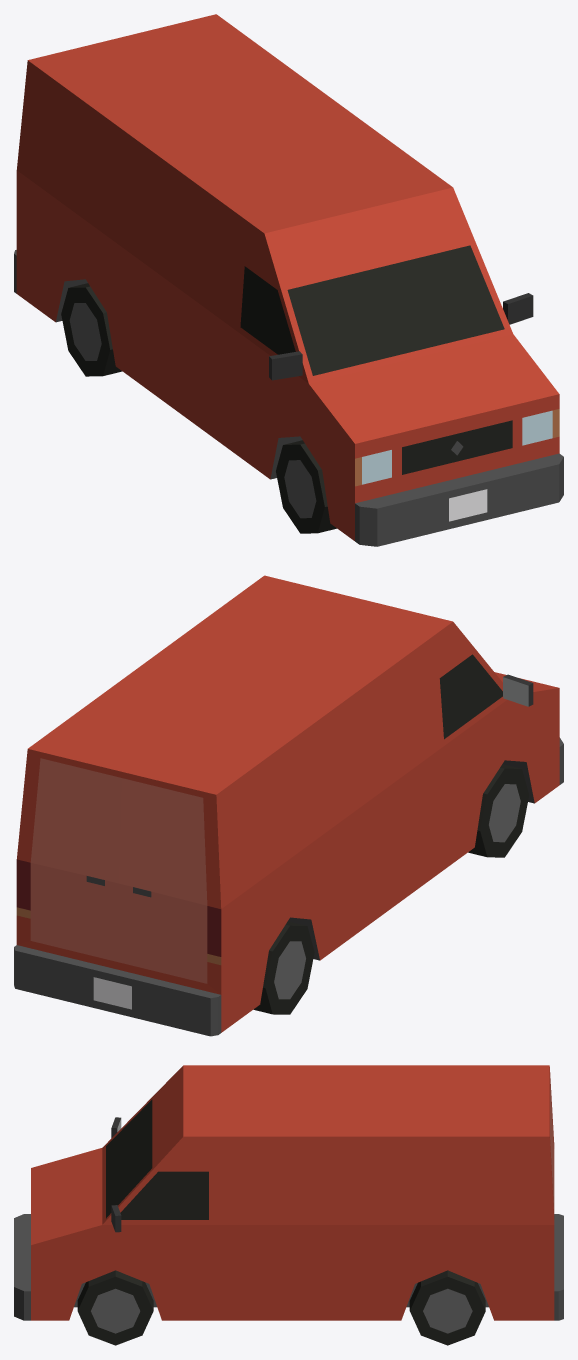
Rendered from Veh_Van_03_Red.obj.
3 views of the same model, one above another, from view 1: azimuth 30°, elevation 25°; view 2: azimuth 150°, elevation 25°; view 3: azimuth 270°, elevation 25° (orthographic). The views are drawn at different scales.
Size of the model in its own units: 1.41 by 1.37 by 3.31.
